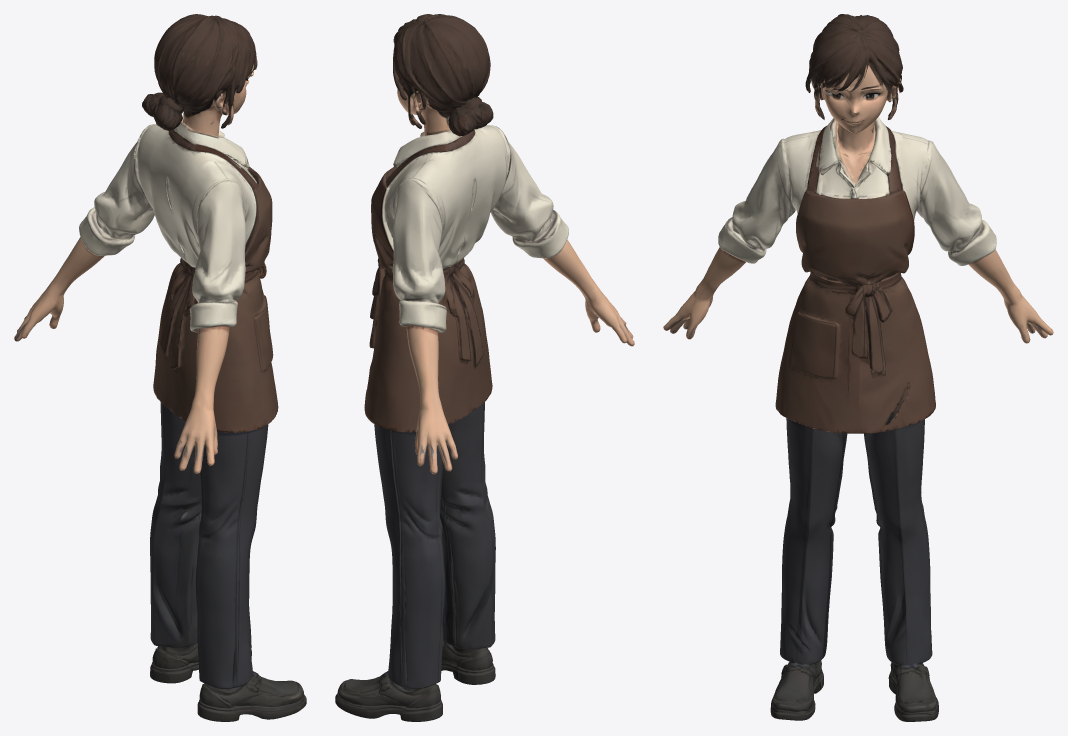
The model's file is bakery_staff_tripo.glb.
3 views of the same model, side by side, from view 1: azimuth 30°, elevation 25°; view 2: azimuth 150°, elevation 25°; view 3: azimuth 270°, elevation 25° (orthographic).
Parts seen in each view (by area): view 1: tripo_node_a22eef2a-52ef-4b73-ae1c-f43220ad646d; view 2: tripo_node_a22eef2a-52ef-4b73-ae1c-f43220ad646d; view 3: tripo_node_a22eef2a-52ef-4b73-ae1c-f43220ad646d.
Part boxes in pixels (x1,y1,x2,y2): tripo_node_a22eef2a-52ef-4b73-ae1c-f43220ad646d: (14, 14, 306, 721); tripo_node_a22eef2a-52ef-4b73-ae1c-f43220ad646d: (335, 14, 634, 721); tripo_node_a22eef2a-52ef-4b73-ae1c-f43220ad646d: (663, 14, 1053, 721).
Size of the model in its own units: 0.27 by 0.9772 by 0.5118.
1 material, 1 textured.
